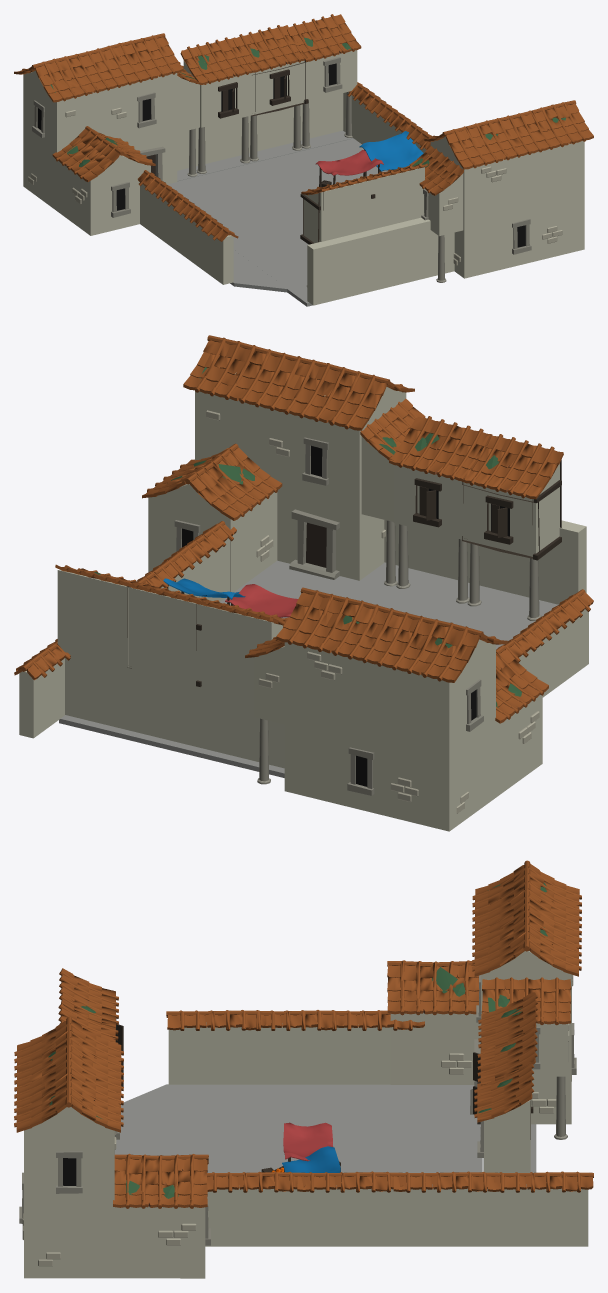
File: RoomR4.fbx
3 views of the same model, one above another, from view 1: azimuth 30°, elevation 25°; view 2: azimuth 150°, elevation 25°; view 3: azimuth 270°, elevation 25° (orthographic). The views are drawn at different scales.
Visible parts, largest first — view 1: R-R4; view 2: R-R4; view 3: R-R4.
Boxes of the visible parts, <box> form: R-R4: <box>14,14,593,306</box>; R-R4: <box>14,335,593,831</box>; R-R4: <box>14,860,593,1278</box>.
Size of the model in its own units: 2285 by 821 by 2317.
